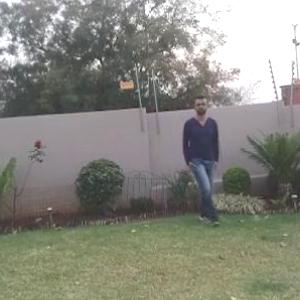follow: (188, 90, 225, 225)
